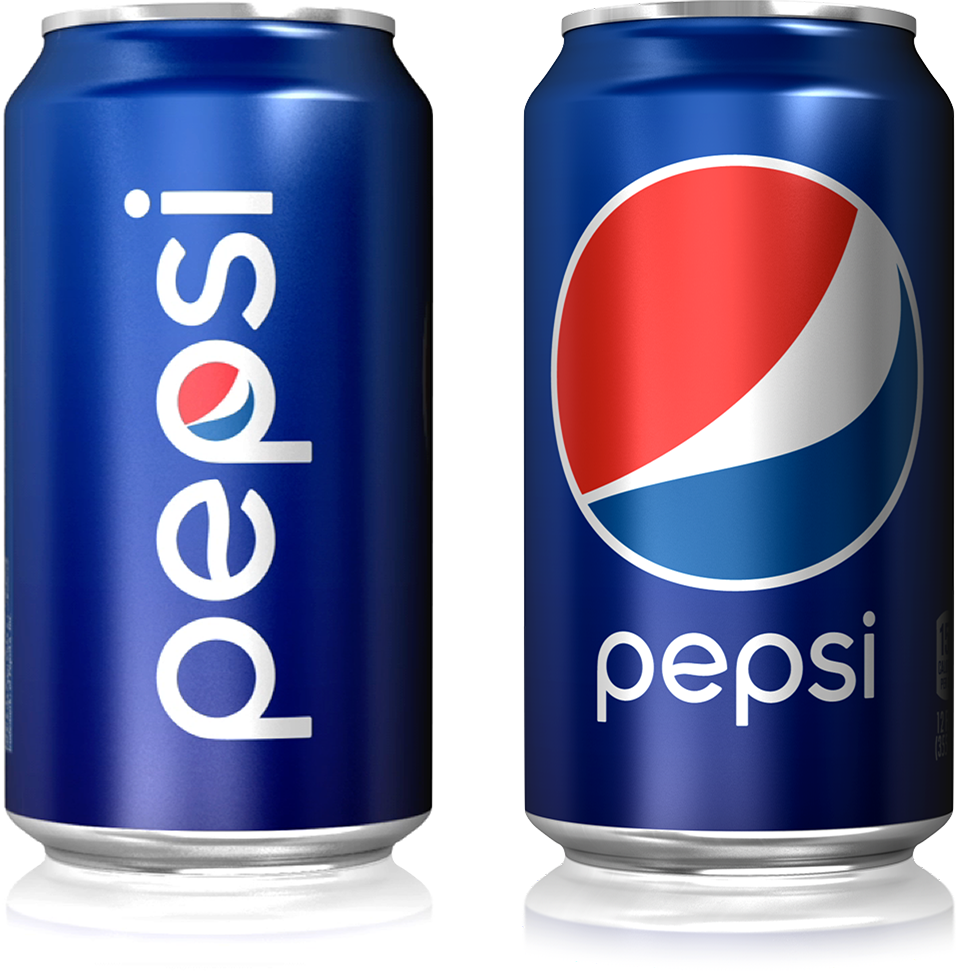pepsi: (545, 157, 937, 593), (175, 357, 255, 444)
